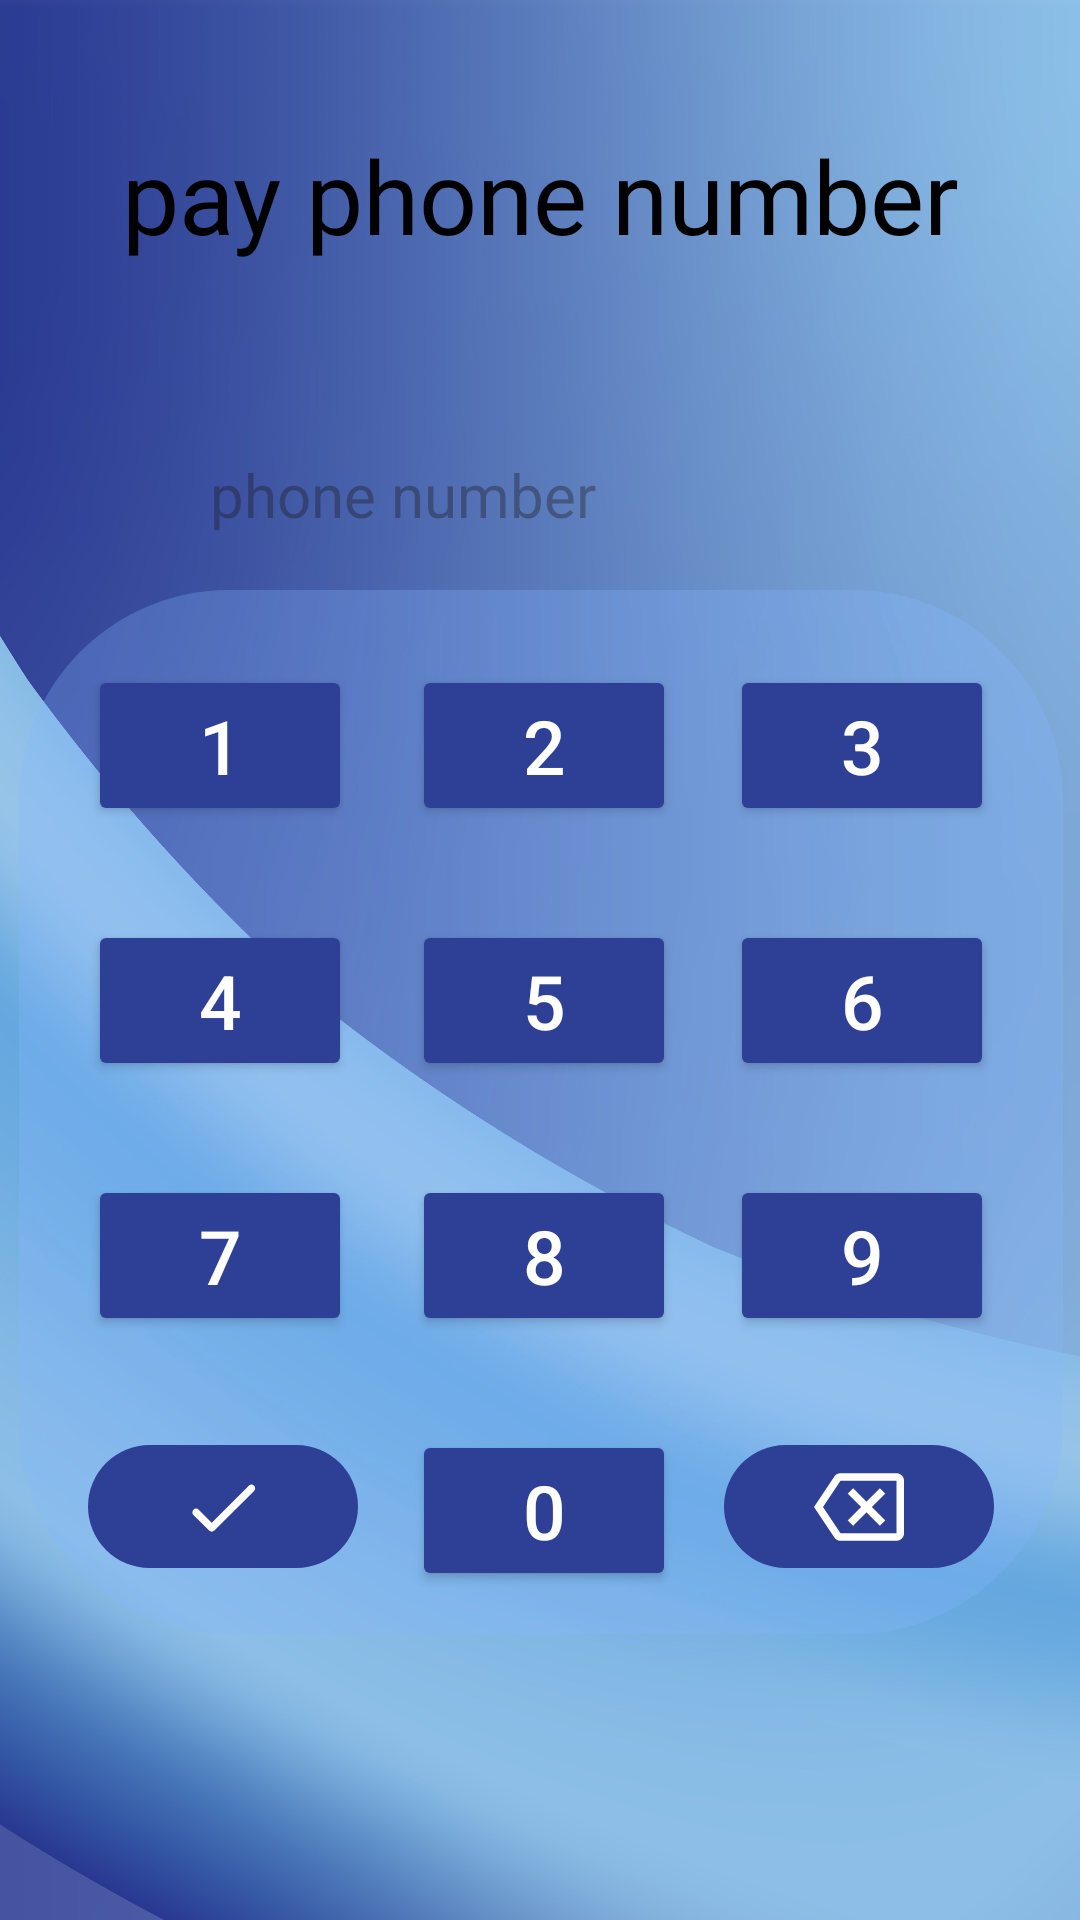

Point at icon controls on the screen. Image size 1080 × 1920, points as [x,y].
backspace: [859,1506]
check: [223,1506]
